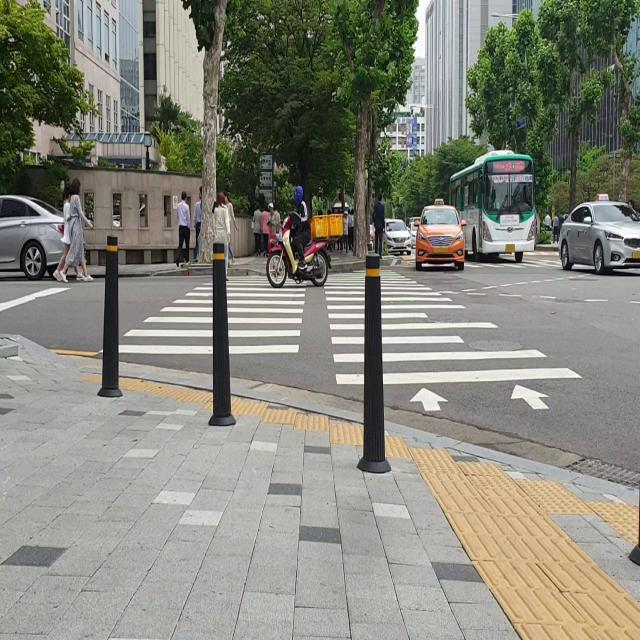횡단보도: (96, 266, 585, 417)
